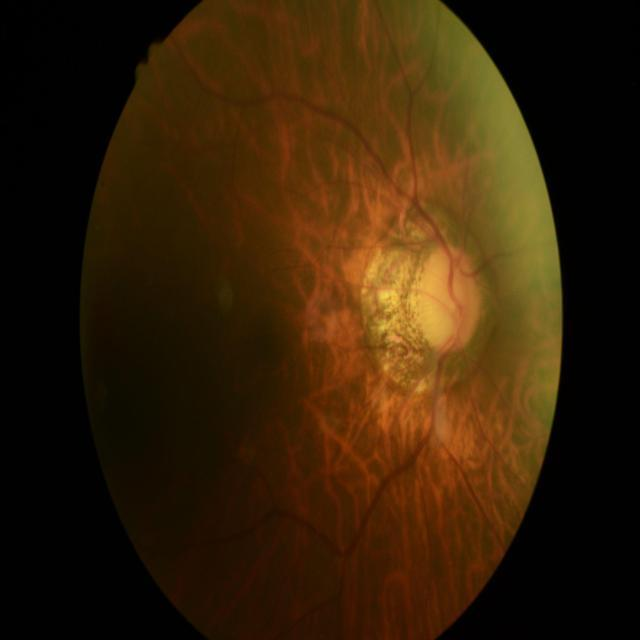cup: (424, 258, 464, 342)
disk: (418, 245, 482, 352)
